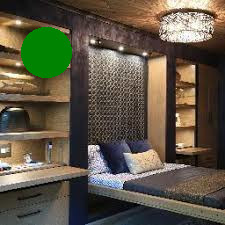focus: (18, 24, 76, 80)
